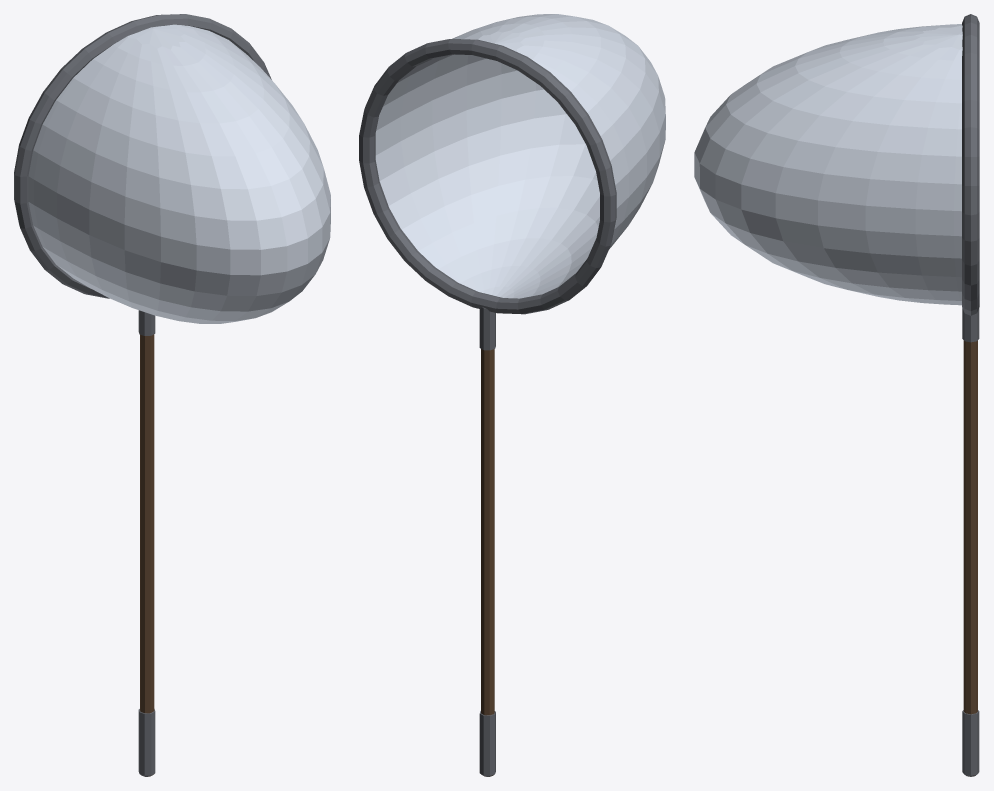
File: Net 1.fbx
3 renders of one model, left to right at view 1: azimuth 30°, elevation 25°; view 2: azimuth 150°, elevation 25°; view 3: azimuth 270°, elevation 25°, orthographic. The views are drawn at different scales.
Parts seen in each view (by area): view 1: Sphere, Torus.002, Cylinder.006, Cylinder.005; view 2: Sphere, Torus.002, Cylinder.006, Cylinder.005; view 3: Sphere, Cylinder.006, Torus.002, Cylinder.005.
Boxes of the visible parts, left/top/right/bottom form: Sphere: left=28, top=24, right=330, bottom=323; Torus.002: left=14, top=14, right=271, bottom=298; Cylinder.006: left=140, top=334, right=154, bottom=776; Cylinder.005: left=138, top=310, right=155, bottom=776; Sphere: left=375, top=14, right=665, bottom=298; Torus.002: left=359, top=39, right=616, bottom=314; Cylinder.006: left=481, top=349, right=494, bottom=776; Cylinder.005: left=479, top=307, right=495, bottom=776; Sphere: left=694, top=24, right=962, bottom=305; Cylinder.006: left=963, top=340, right=977, bottom=776; Torus.002: left=962, top=14, right=979, bottom=315; Cylinder.005: left=962, top=308, right=979, bottom=776.
Bounding box in the file's own units: 52 × 142 × 49.26.
